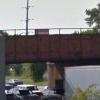Bridge: (4, 22, 95, 75)
